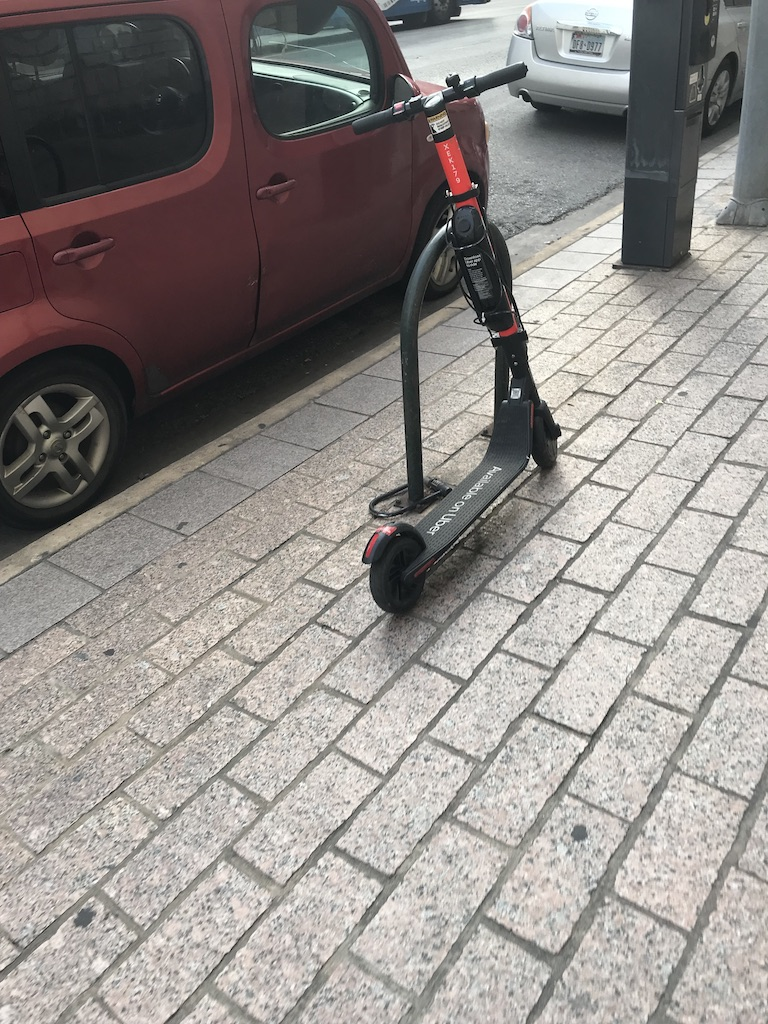scooter: (357, 62, 561, 613)
